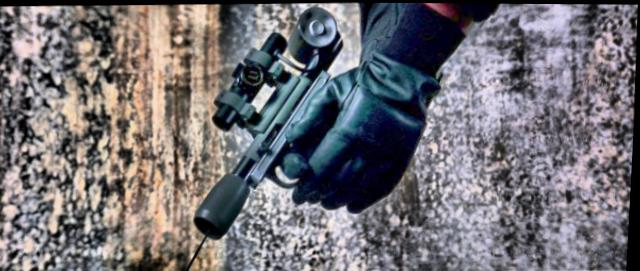pistol: (176, 1, 389, 243)
